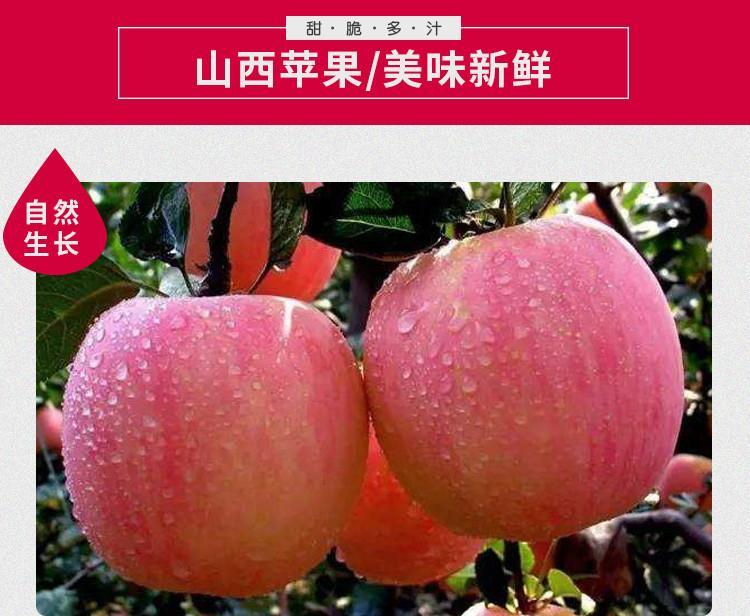apple: (363, 214, 687, 542), (63, 298, 372, 597)
